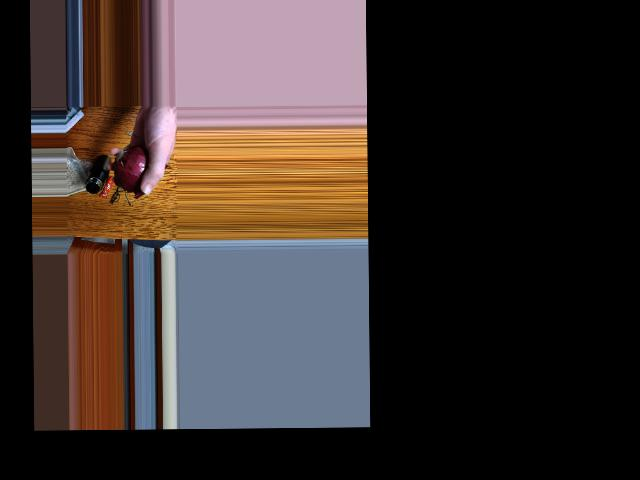onion: (114, 145, 154, 187)
